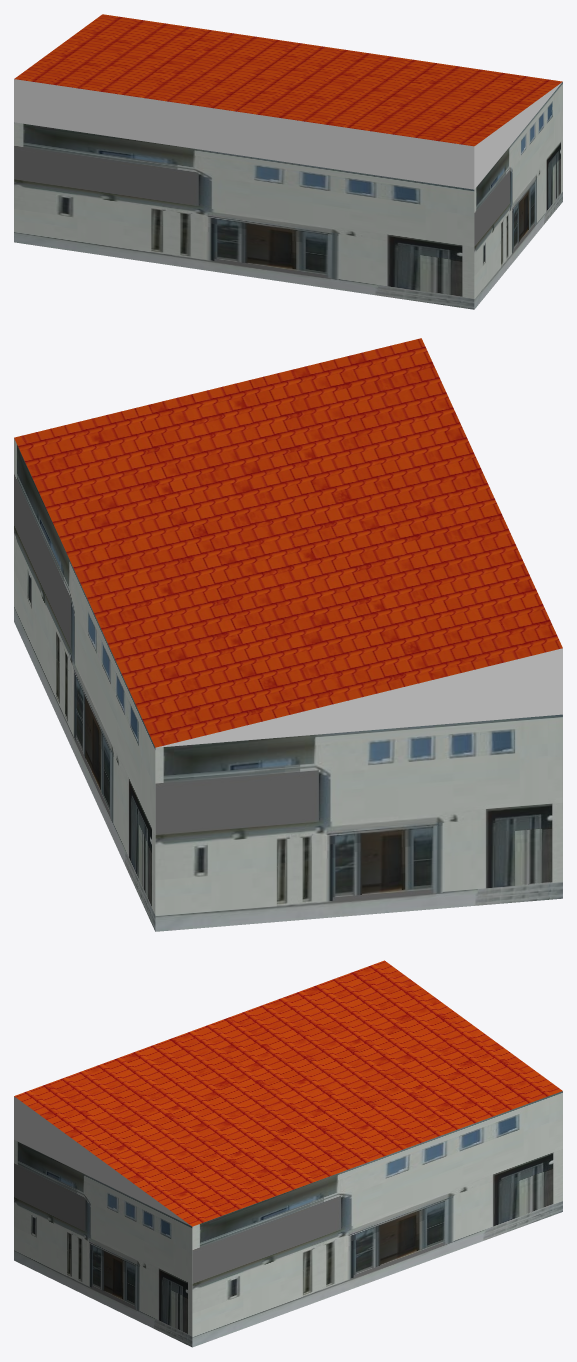
3 renders of one model, top to bottom at view 1: azimuth 30°, elevation 25°; view 2: azimuth 150°, elevation 25°; view 3: azimuth 270°, elevation 25°, orthographic. The views are drawn at different scales.
Visible parts, largest first — view 1: CityEngineMaterial_11_m, CityEngineMaterial_12_m, CityEngineMaterial_3_m; view 2: CityEngineMaterial_12_m, CityEngineMaterial_11_m, CityEngineMaterial_3_m; view 3: CityEngineMaterial_12_m, CityEngineMaterial_11_m, CityEngineMaterial_3_m.
Boxes of the visible parts, <box> form: CityEngineMaterial_11_m: <box>14,82,562,309</box>; CityEngineMaterial_12_m: <box>14,14,562,146</box>; CityEngineMaterial_3_m: <box>14,79,562,189</box>; CityEngineMaterial_12_m: <box>14,338,562,747</box>; CityEngineMaterial_11_m: <box>14,438,562,931</box>; CityEngineMaterial_3_m: <box>156,648,562,747</box>; CityEngineMaterial_12_m: <box>14,960,562,1226</box>; CityEngineMaterial_11_m: <box>14,1091,562,1347</box>; CityEngineMaterial_3_m: <box>14,1096,190,1225</box>.
Bounding box in the file's own units: 21.96 × 7.56 × 22.87.
